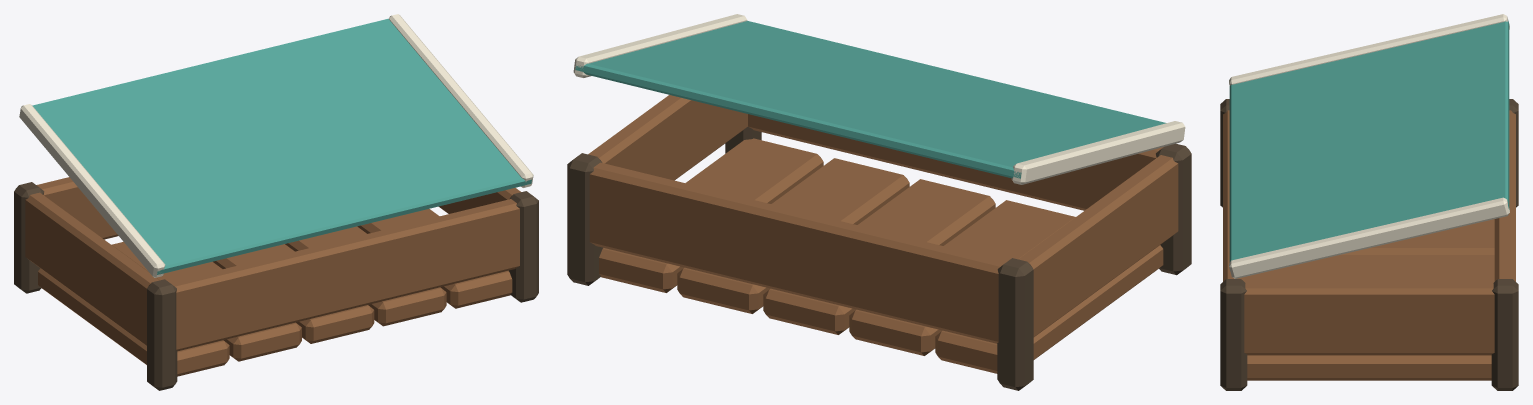
The model's file is Cold_Frame_A.glb.
The picture shows the model from 3 angles, left to right: view 1: azimuth 30°, elevation 25°; view 2: azimuth 150°, elevation 25°; view 3: azimuth 270°, elevation 25°; orthographic projection. The views are drawn at different scales.
Parts seen in each view (by area): view 1: Cold_Frame_A; view 2: Cold_Frame_A; view 3: Cold_Frame_A.
Boxes of the visible parts, x1,y1,x2,y2 form: Cold_Frame_A: [14, 14, 538, 390]; Cold_Frame_A: [567, 14, 1191, 390]; Cold_Frame_A: [1220, 14, 1518, 390].
Bounding box in the file's own units: 1.17 × 0.5414 × 0.77.
